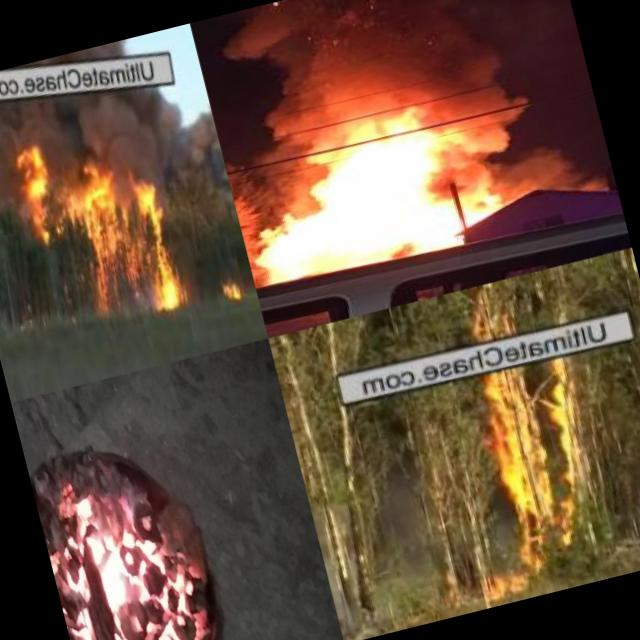fire: (19, 401, 233, 640), (433, 358, 632, 606), (228, 120, 491, 295), (11, 126, 188, 336), (216, 270, 243, 308)
smoke: (218, 0, 565, 170), (462, 92, 594, 212), (0, 105, 30, 239)
